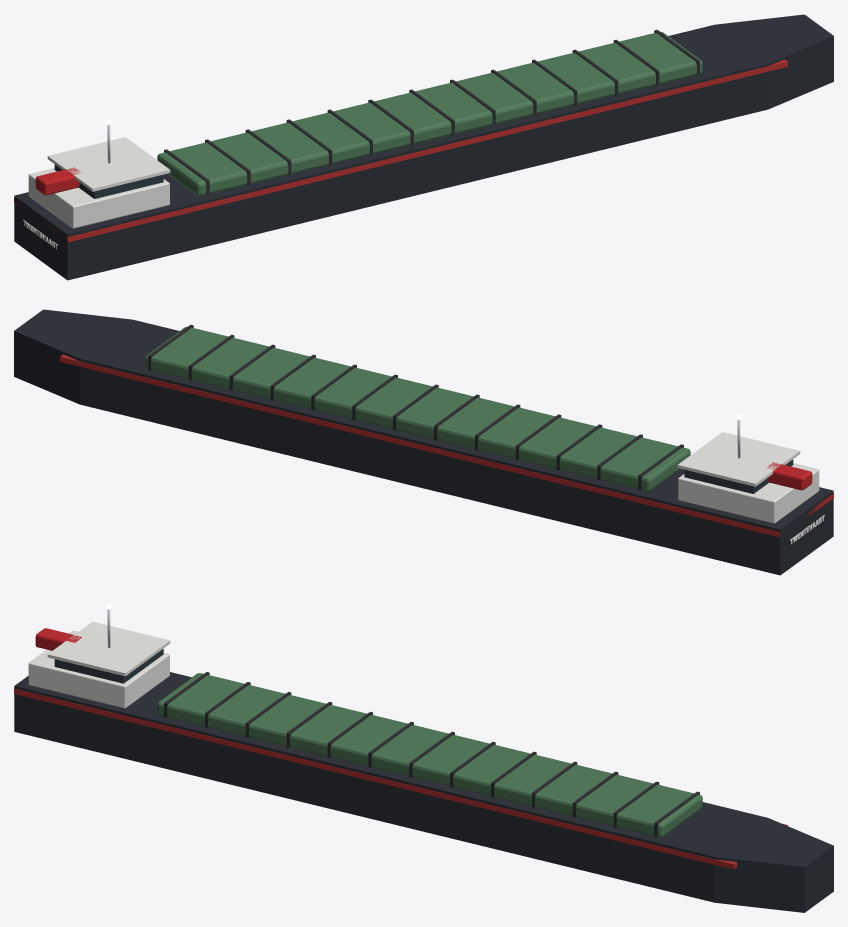
The model's file is lm_barge.glb.
3 views of the same model, one above another, from view 1: azimuth 30°, elevation 25°; view 2: azimuth 150°, elevation 25°; view 3: azimuth 330°, elevation 25° (orthographic).
Parts seen in each view (by area): view 1: hull, hatches, stripe, cabin, wheelhouse_roof, deck_car, wheelhouse_glass; view 2: hull, hatches, stripe, cabin, wheelhouse_roof, deck_car, wheelhouse_glass; view 3: hull, hatches, stripe, cabin, wheelhouse_roof, wheelhouse_glass, deck_car.
Part boxes in pixels (x1,y1,x2,y2): hull: [14, 14, 833, 280]; hatches: [157, 31, 702, 196]; stripe: [14, 22, 787, 242]; cabin: [28, 168, 169, 228]; wheelhouse_roof: [47, 137, 170, 191]; deck_car: [35, 167, 82, 195]; wheelhouse_glass: [54, 164, 163, 198]; hull: [14, 309, 833, 575]; hatches: [145, 326, 690, 491]; stripe: [60, 317, 833, 537]; cabin: [678, 463, 819, 523]; wheelhouse_roof: [677, 432, 800, 486]; deck_car: [767, 462, 812, 490]; wheelhouse_glass: [684, 459, 793, 493]; hull: [14, 672, 833, 912]; hatches: [157, 673, 702, 837]; stripe: [14, 688, 787, 869]; cabin: [28, 630, 169, 708]; wheelhouse_roof: [47, 621, 170, 676]; wheelhouse_glass: [54, 649, 163, 683]; deck_car: [35, 628, 82, 650].
Bounding box in the file's own units: 80.1 × 12.15 × 9.58.
